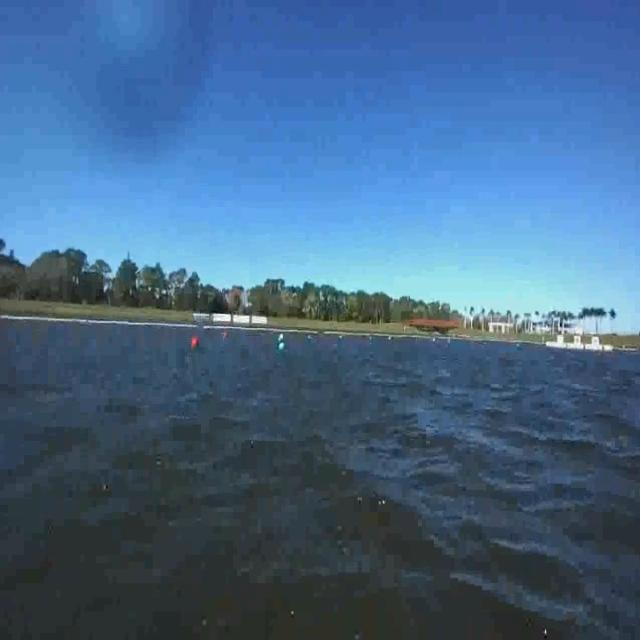green-buoy: (277, 342, 285, 360)
red-buoy: (192, 334, 198, 353)
